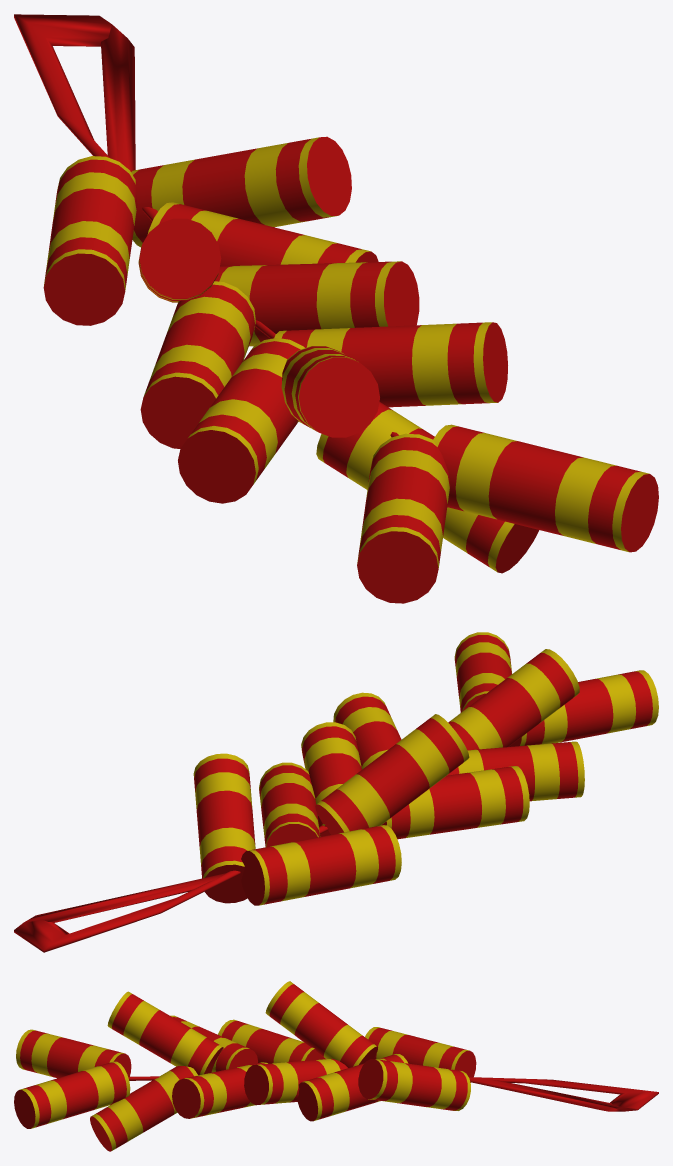
Rendered from fireC.FBX.
The picture shows the model from 3 angles, top to bottom: view 1: azimuth 30°, elevation 25°; view 2: azimuth 150°, elevation 25°; view 3: azimuth 270°, elevation 25°; orthographic projection. The views are drawn at different scales.
Parts seen in each view (by area): view 1: firecracker; view 2: firecracker; view 3: firecracker.
Part boxes in pixels (box(x1,y1,x2,y2)): firecracker: box(14, 14, 658, 603); firecracker: box(14, 632, 658, 952); firecracker: box(14, 981, 658, 1151).
Size of the model in its own units: 23.98 by 15.84 by 71.22.
